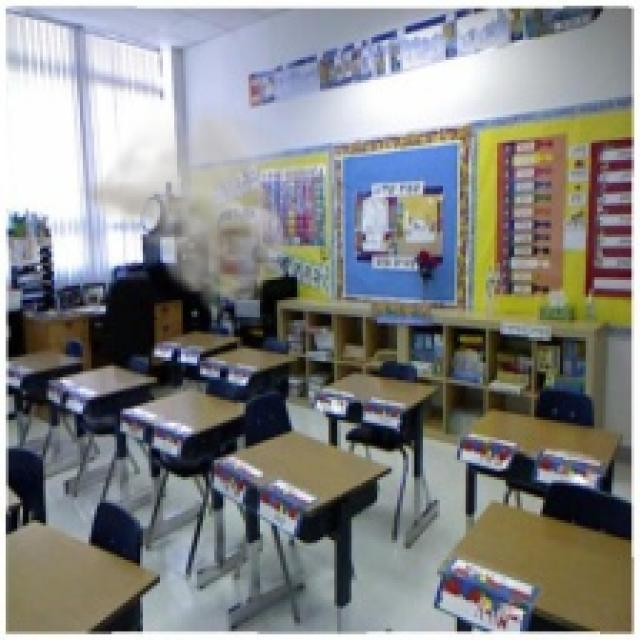smoke: (74, 97, 314, 320)
